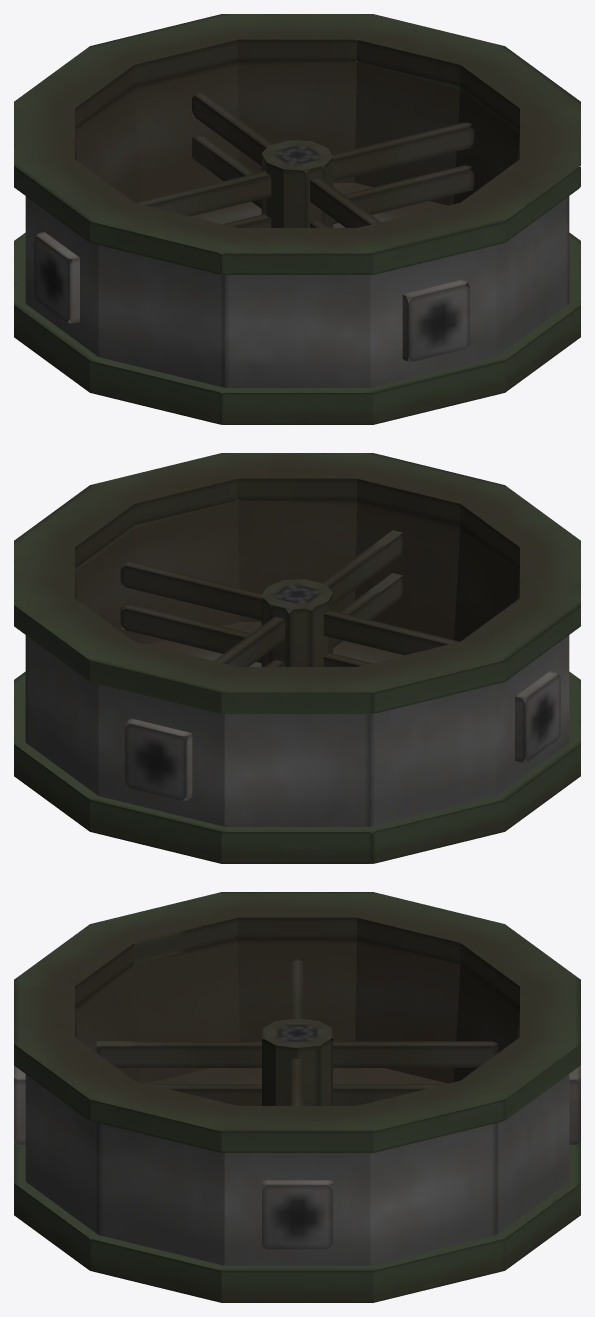
File: vishelashivatel.obj
The picture shows the model from 3 angles, top to bottom: view 1: azimuth 30°, elevation 25°; view 2: azimuth 150°, elevation 25°; view 3: azimuth 270°, elevation 25°; orthographic projection.
Visible parts, largest first — view 1: cylinder; view 2: cylinder; view 3: cylinder.
Boxes of the visible parts, x1,y1,x2,y2 form: cylinder: (14, 14, 580, 424); cylinder: (14, 453, 580, 863); cylinder: (14, 892, 580, 1302).
Bounding box in the file's own units: 3 × 1 × 3.
